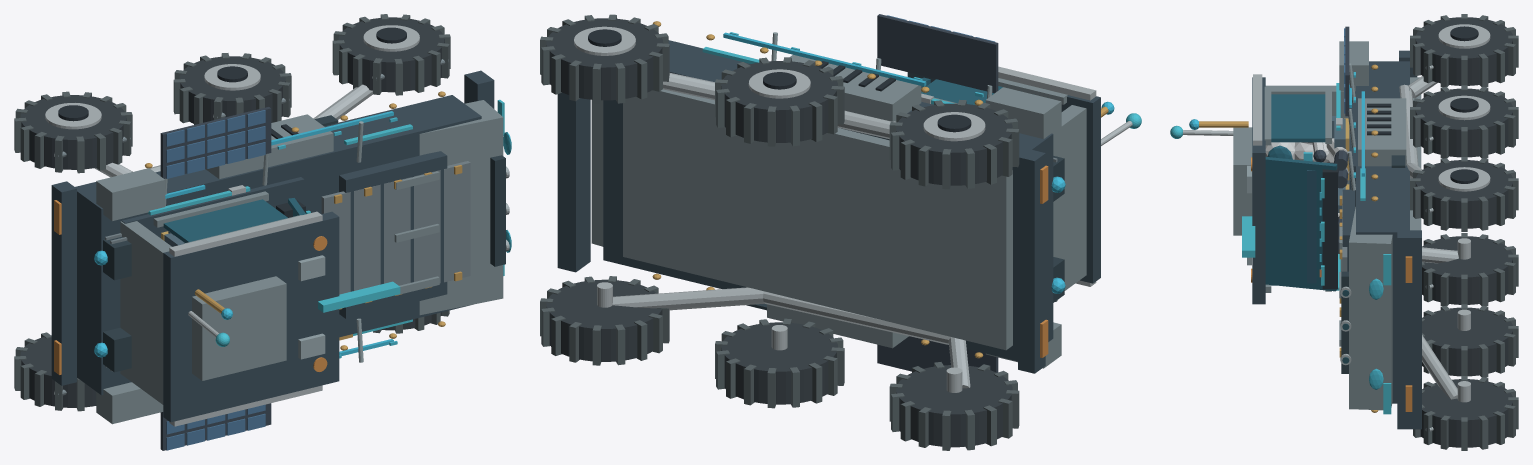
File: mars-racer-omega-ultimate.glb
The picture shows the model from 3 angles, left to right: view 1: azimuth 30°, elevation 25°; view 2: azimuth 150°, elevation 25°; view 3: azimuth 270°, elevation 25°; orthographic projection. The views are drawn at different scales.
Parts seen in each view (by area): view 1: Cabin_Roof_013, Main_Armored_Chassis_000, Forward_Nose_Armor_002, Roof_Equipment_Pod_055, Cabin_Rear_Panel_012, Front_Cargo_Lid_189, Rear_Bumper_004, Wheel_Rubber_Tire_167, Wheel_Rubber_Tire_127, Wheel_Rubber_Tire_147, OMEGA_Modular_Front_Armor_Plate_012, Rear_Equipment_Canister_033 (+27 smaller); view 2: Lower_Skid_Plate_001, Main_Armored_Chassis_000, ULTIMATE_Deployable_Solar_Panel_076, Wheel_Rubber_Tire_084, Front_Bumper_003, Rear_Bumper_004, Wheel_Rubber_Tire_064, Wheel_Rubber_Tire_104, Cabin_Rear_Panel_012, Wheel_Rubber_Tire_167, Wheel_Rubber_Tire_127, Wheel_Rubber_Tire_147 (+18 smaller); view 3: Forward_Nose_Armor_002, Windshield_014, Main_Armored_Chassis_000, Front_Bumper_003, Wheel_Rubber_Tire_084, Wheel_Rubber_Tire_104, Wheel_Rubber_Tire_064, Wheel_Rubber_Tire_127, Wheel_Rubber_Tire_167, Wheel_Rubber_Tire_147, Side_Window_028, Side_Utility_Pod_032 (+23 smaller).
Part boxes in pixels (x1=…): Cabin_Roof_013: x1=163, y1=211, x2=339, y2=422; Main_Armored_Chassis_000: x1=75, y1=95, x2=481, y2=395; Forward_Nose_Armor_002: x1=419, y1=100, x2=503, y2=315; Roof_Equipment_Pod_055: x1=192, y1=276, x2=286, y2=380; Cabin_Rear_Panel_012: x1=120, y1=221, x2=171, y2=404; Front_Cargo_Lid_189: x1=339, y1=151, x2=447, y2=318; Rear_Bumper_004: x1=51, y1=181, x2=76, y2=385; Wheel_Rubber_Tire_167: x1=338, y1=17, x2=444, y2=92; Wheel_Rubber_Tire_127: x1=20, y1=95, x2=126, y2=169; Wheel_Rubber_Tire_147: x1=179, y1=56, x2=285, y2=123; OMEGA_Modular_Front_Armor_Plate_012: x1=444, y1=161, x2=470, y2=282; Rear_Equipment_Canister_033: x1=96, y1=168, x2=165, y2=220; Lower_Skid_Plate_001: x1=623, y1=89, x2=1012, y2=350; Main_Armored_Chassis_000: x1=603, y1=40, x2=1053, y2=361; ULTIMATE_Deployable_Solar_Panel_076: x1=877, y1=14, x2=998, y2=93; Wheel_Rubber_Tire_084: x1=721, y1=322, x2=837, y2=404; Front_Bumper_003: x1=557, y1=92, x2=590, y2=272; Rear_Bumper_004: x1=1018, y1=149, x2=1045, y2=373; Wheel_Rubber_Tire_064: x1=896, y1=365, x2=1012, y2=447; Wheel_Rubber_Tire_104: x1=546, y1=279, x2=662, y2=361; Cabin_Rear_Panel_012: x1=1053, y1=105, x2=1086, y2=290; Wheel_Rubber_Tire_167: x1=546, y1=18, x2=663, y2=100; Wheel_Rubber_Tire_127: x1=896, y1=103, x2=1012, y2=185; Wheel_Rubber_Tire_147: x1=721, y1=61, x2=837, y2=142; Forward_Nose_Armor_002: x1=1349, y1=207, x2=1392, y2=410; Windshield_014: x1=1265, y1=157, x2=1337, y2=291; Main_Armored_Chassis_000: x1=1356, y1=61, x2=1409, y2=403; Front_Bumper_003: x1=1397, y1=230, x2=1421, y2=429; Wheel_Rubber_Tire_084: x1=1422, y1=307, x2=1512, y2=376; Wheel_Rubber_Tire_104: x1=1420, y1=379, x2=1512, y2=447; Wheel_Rubber_Tire_064: x1=1422, y1=236, x2=1512, y2=304; Wheel_Rubber_Tire_127: x1=1415, y1=17, x2=1512, y2=85; Wheel_Rubber_Tire_167: x1=1415, y1=160, x2=1512, y2=228; Wheel_Rubber_Tire_147: x1=1415, y1=88, x2=1512, y2=157; Side_Window_028: x1=1271, y1=94, x2=1325, y2=142; Side_Utility_Pod_032: x1=1358, y1=98, x2=1406, y2=166.
Size of the model in its own units: 6.29 by 4.33 by 4.7.
